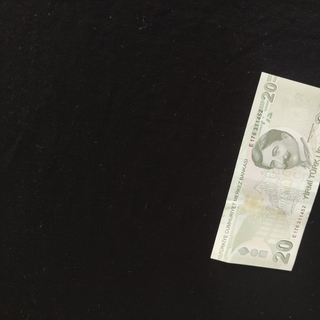20TLBack: (210, 71, 320, 273)
